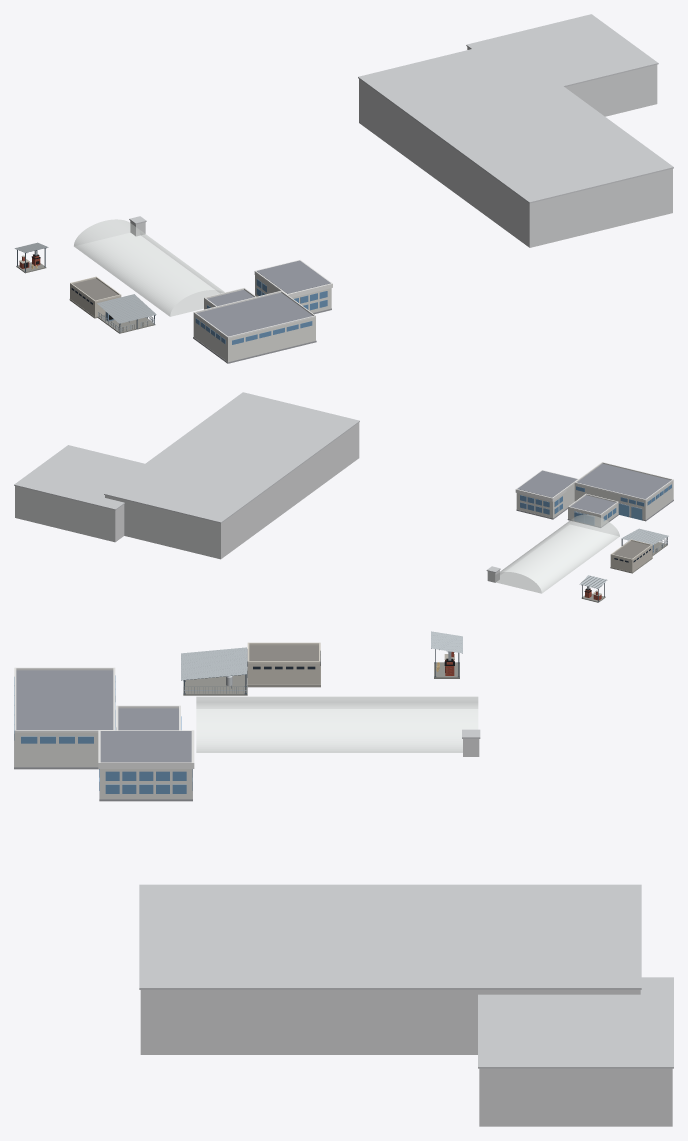
The model's file is entorno_edificios.glb.
3 renders of one model, top to bottom at view 1: azimuth 30°, elevation 25°; view 2: azimuth 150°, elevation 25°; view 3: azimuth 270°, elevation 25°, orthographic. The views are drawn at different scales.
Visible parts, largest first — view 1: Edificio_Policlínico_UDEP, Edificio_08, Edificio_Invernadero, Edificio_03, Edificio_04, Edificio_02, Edificio_01, Edificio_07, Edificio_05; view 2: Edificio_Policlínico_UDEP, Edificio_08, Edificio_Invernadero, Edificio_03, Edificio_04, Edificio_05, Edificio_01, Edificio_02, Edificio_07; view 3: Edificio_Policlínico_UDEP, Edificio_08, Edificio_Invernadero, Edificio_03, Edificio_04, Edificio_01, Edificio_02, Edificio_05, Edificio_07.
Boxes of the visible parts, left/top/right/bottom form: Edificio_Policlínico_UDEP: left=358, top=41, right=673, bottom=247; Edificio_08: left=466, top=14, right=658, bottom=116; Edificio_Invernadero: left=74, top=219, right=224, bottom=316; Edificio_03: left=193, top=290, right=316, bottom=363; Edificio_04: left=254, top=260, right=332, bottom=314; Edificio_02: left=97, top=294, right=156, bottom=333; Edificio_01: left=69, top=276, right=121, bottom=318; Edificio_07: left=14, top=242, right=48, bottom=273; Edificio_05: left=204, top=288, right=255, bottom=309; Edificio_Policlínico_UDEP: left=104, top=392, right=359, bottom=559; Edificio_08: left=14, top=445, right=144, bottom=542; Edificio_Invernadero: left=496, top=514, right=619, bottom=593; Edificio_03: left=574, top=462, right=673, bottom=521; Edificio_04: left=515, top=470, right=578, bottom=519; Edificio_05: left=567, top=493, right=618, bottom=527; Edificio_01: left=610, top=539, right=652, bottom=573; Edificio_02: left=621, top=528, right=668, bottom=555; Edificio_07: left=579, top=575, right=607, bottom=602; Edificio_Policlínico_UDEP: left=139, top=884, right=641, bottom=1054; Edificio_08: left=478, top=977, right=673, bottom=1126; Edificio_Invernadero: left=196, top=696, right=478, bottom=752; Edificio_03: left=14, top=667, right=115, bottom=769; Edificio_04: left=98, top=730, right=194, bottom=801; Edificio_01: left=247, top=642, right=320, bottom=687; Edificio_02: left=181, top=647, right=247, bottom=695; Edificio_05: left=116, top=705, right=181, bottom=730; Edificio_07: left=431, top=631, right=462, bottom=678.
Size of the model in its own units: 136 by 9.24 by 81.85.
Materials: 36 (1 with a texture image).
